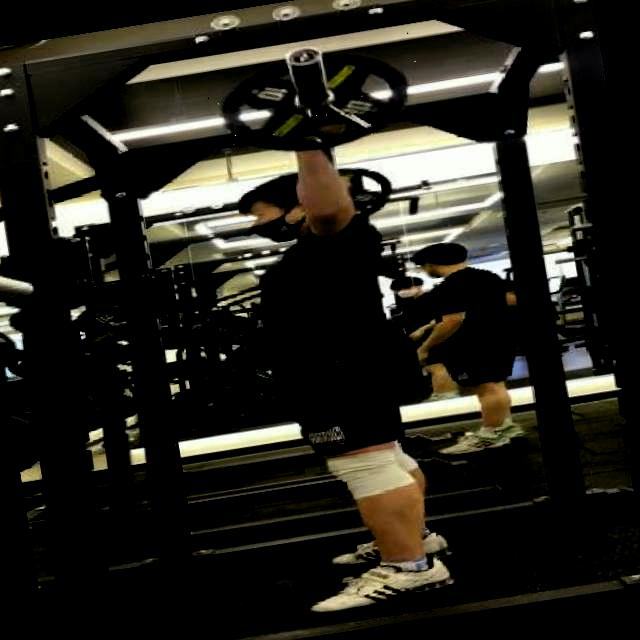barbell: (201, 27, 432, 172)
